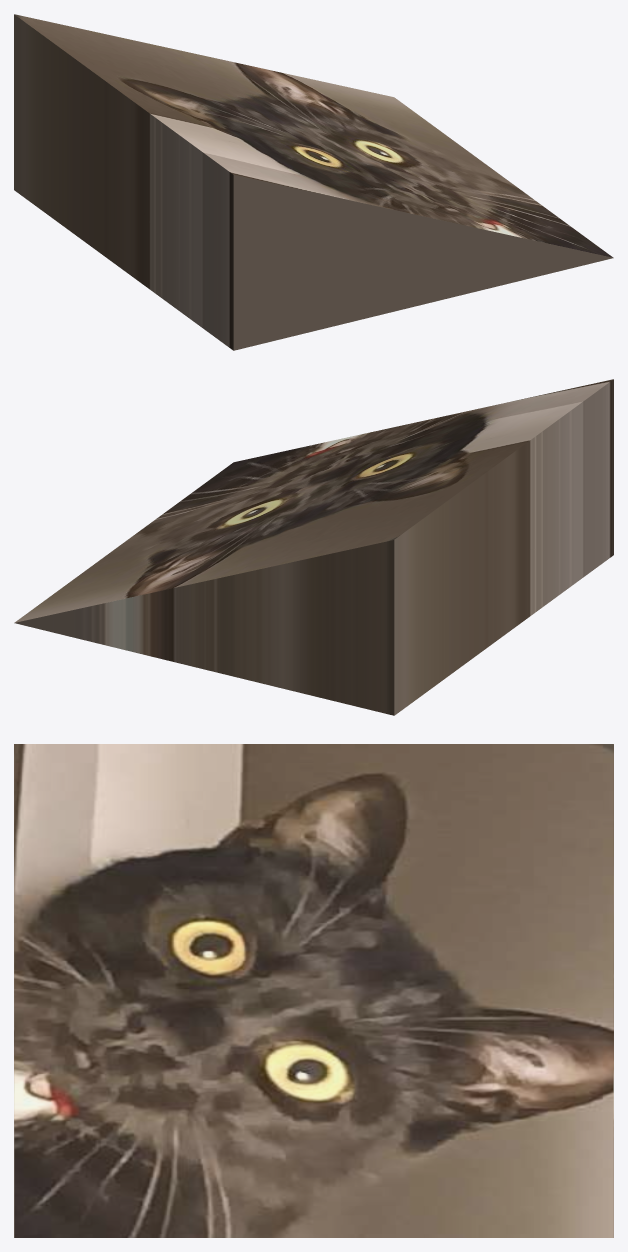
Rendered from rampageV5.glb.
The picture shows the model from 3 angles, top to bottom: view 1: azimuth 30°, elevation 25°; view 2: azimuth 150°, elevation 25°; view 3: azimuth 270°, elevation 25°; orthographic projection. The views are drawn at different scales.
Visible parts, largest first — view 1: rampage; view 2: rampage; view 3: rampage.
Boxes of the visible parts, x1,y1,x2,y2 form: rampage: [14, 14, 613, 350]; rampage: [14, 379, 613, 715]; rampage: [14, 744, 613, 1237].
Bounding box in the file's own units: 4.59 × 2.03 × 4.59.
Materials: 1 (1 with a texture image).
